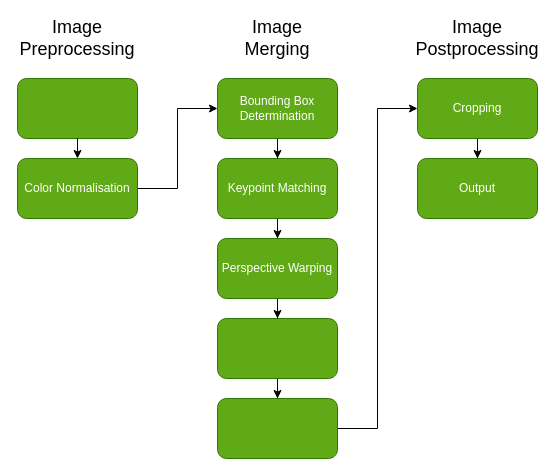
The diagram is 556 pixels wide and 476 high, and some of its shapes have lost their labels. Here are the shapes that lost their labels. From the top down, the centre of each, then its label:
At (77,108): "Image Capture".
At (277,348): "(Grab Cut)".
At (277,428): "Blending".
